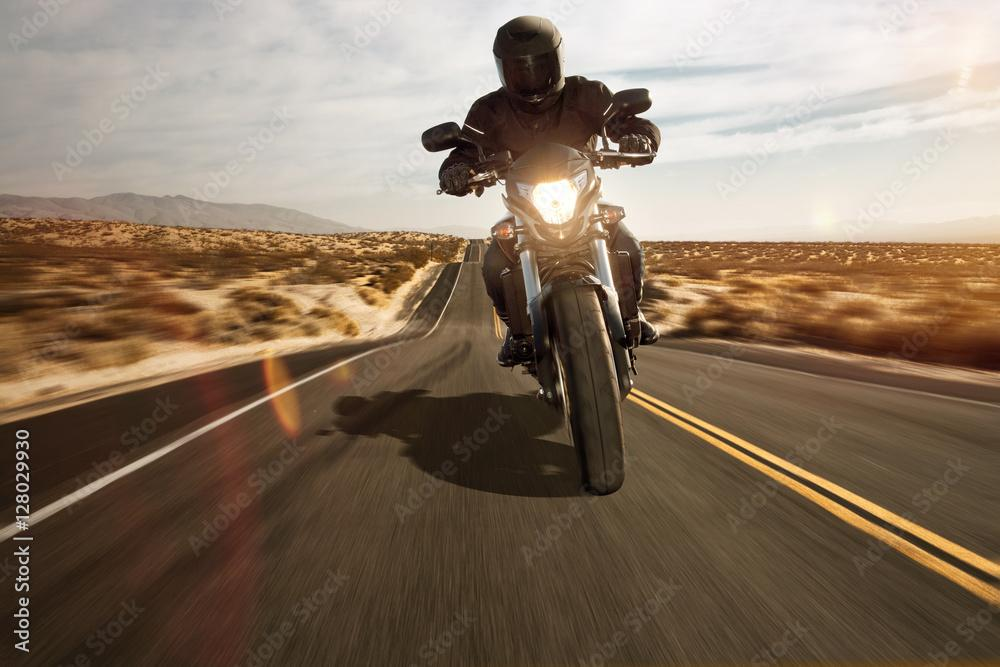helmet: (491, 14, 566, 115)
